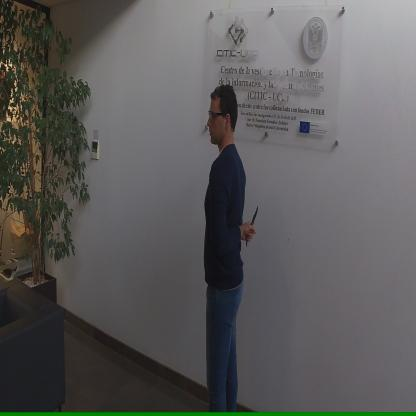knife: (244, 202, 260, 249)
